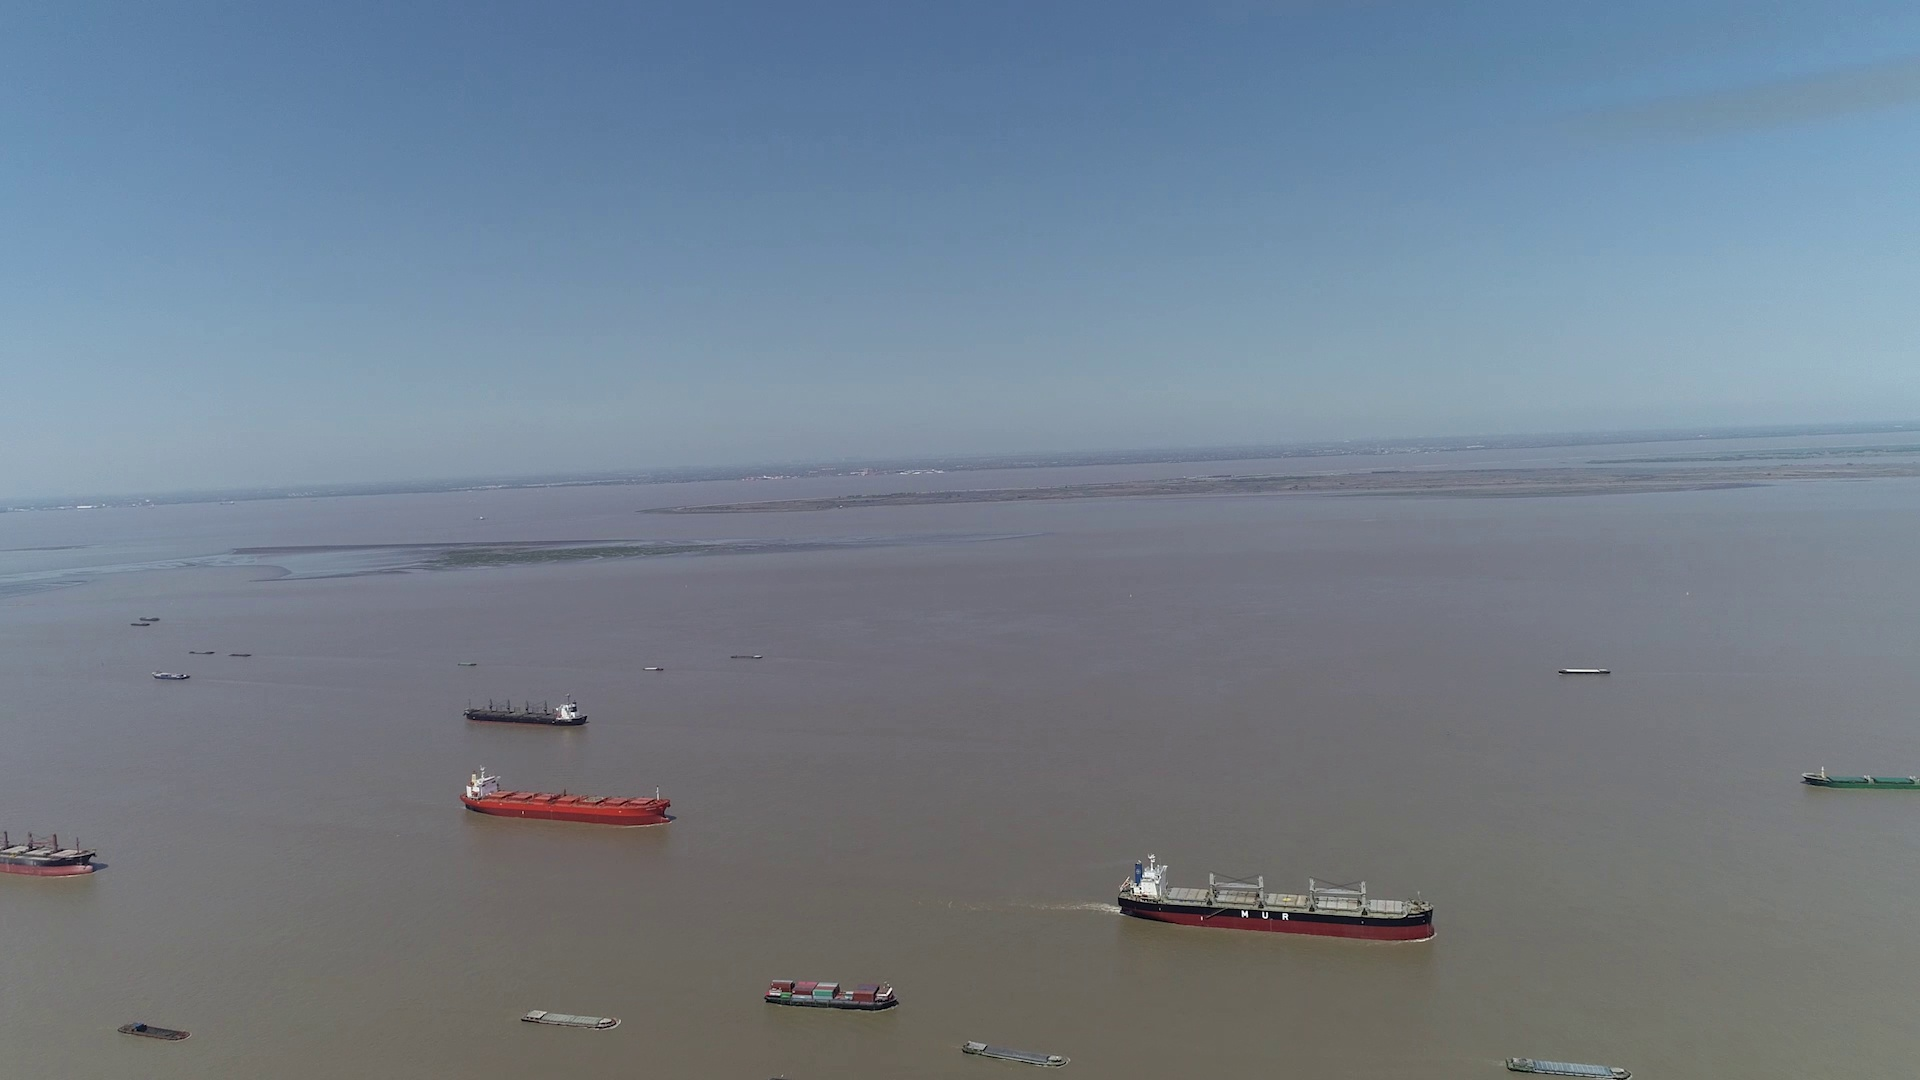ship: (1118, 851, 1432, 943), (459, 762, 669, 824), (3, 819, 103, 876), (764, 978, 898, 1010), (465, 694, 587, 725), (961, 1039, 1068, 1068), (1506, 1055, 1629, 1080), (1803, 766, 1919, 790), (524, 1009, 618, 1030), (117, 1023, 193, 1040), (149, 670, 191, 680), (1561, 667, 1611, 675)
